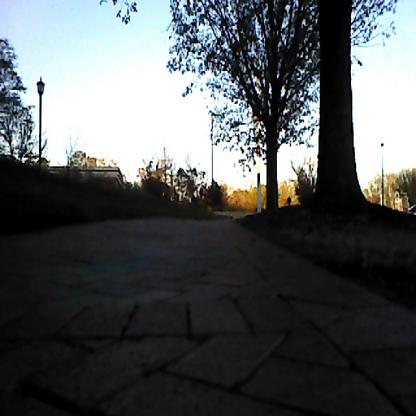Edge: (234, 202, 416, 312)
Sidewalk: (0, 214, 416, 416)
